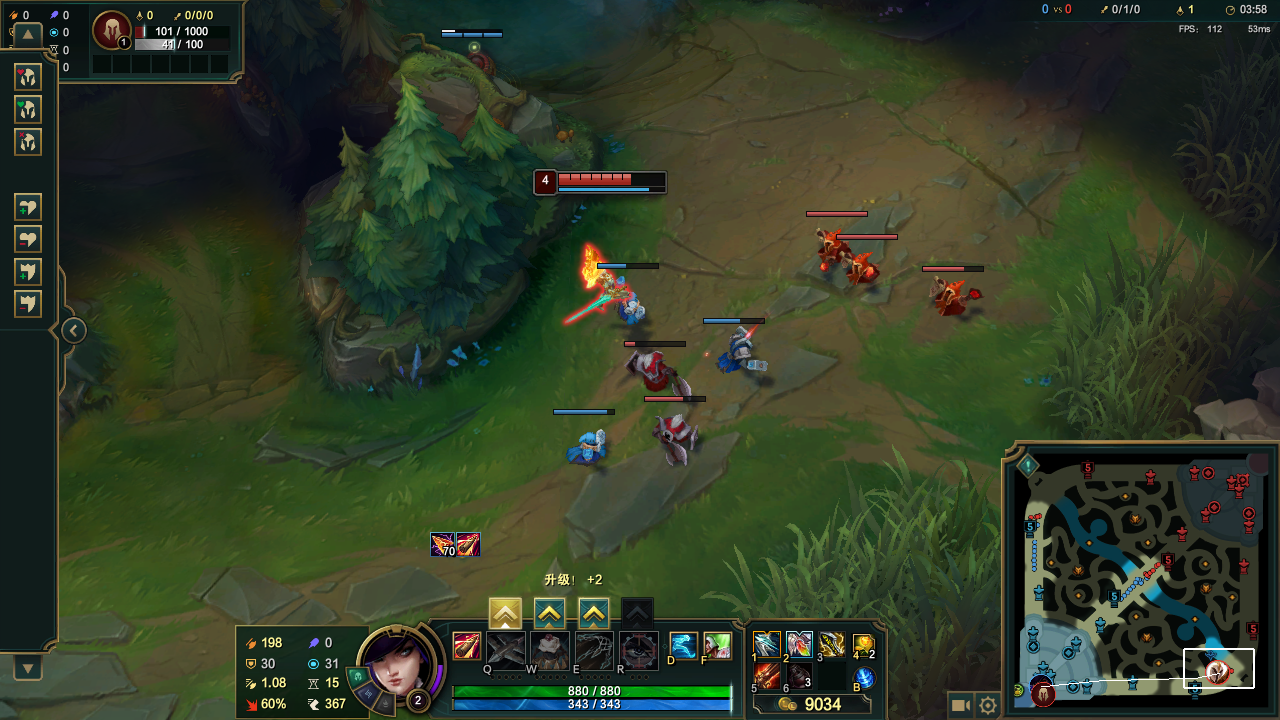DFYX: (555, 172, 665, 185)
